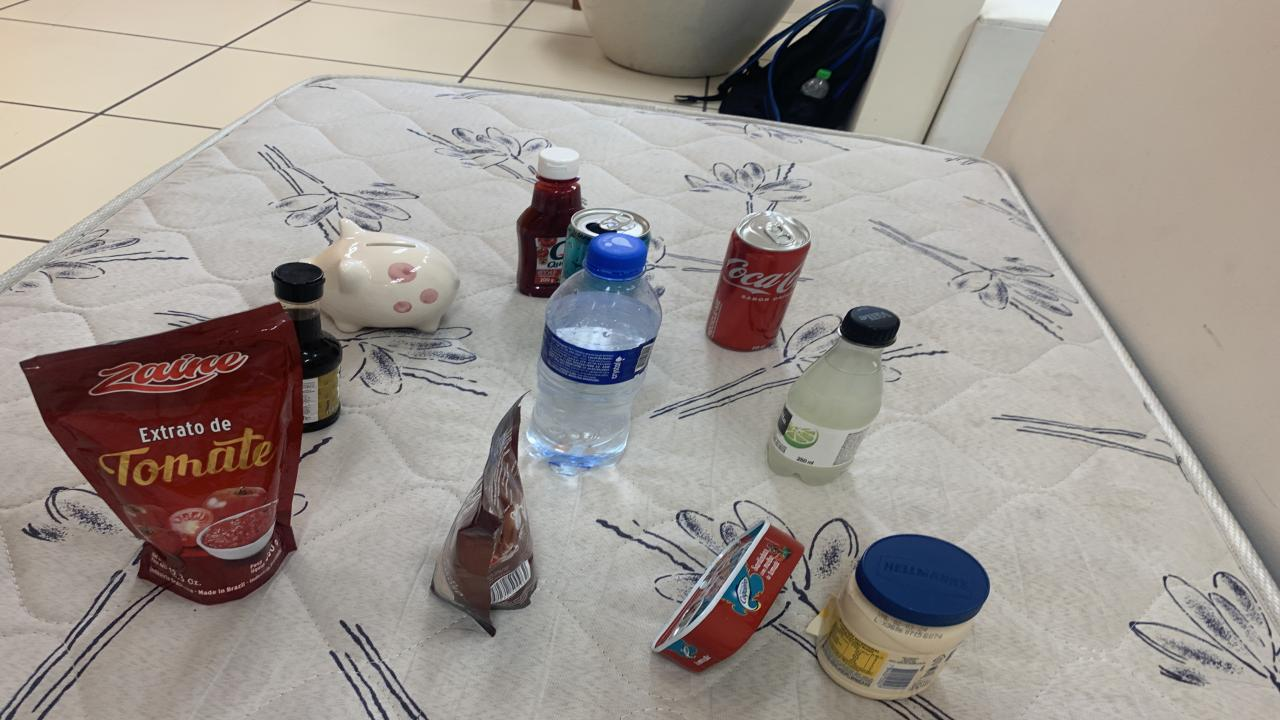Coffee-Pantry_Items: (432, 401, 538, 636)
Coke-Drinks: (708, 210, 810, 351)
English_Sauce-Pantry_Items: (272, 262, 342, 433)
Ketchup-Pantry_Items: (518, 146, 582, 296)
Mayonnaise-Pantry_Items: (818, 534, 990, 699)
Pig_Safe-Miscellaneous: (308, 219, 460, 332)
Soda-Drinks: (768, 306, 900, 486)
Tea-Drinks: (560, 208, 650, 281)
Tomato_Sauce-Pantry_Items: (20, 304, 302, 604)
Tuna_Can-Pantry_Items: (650, 523, 805, 671)
Water_Bottle-Drinks: (528, 232, 662, 474)
